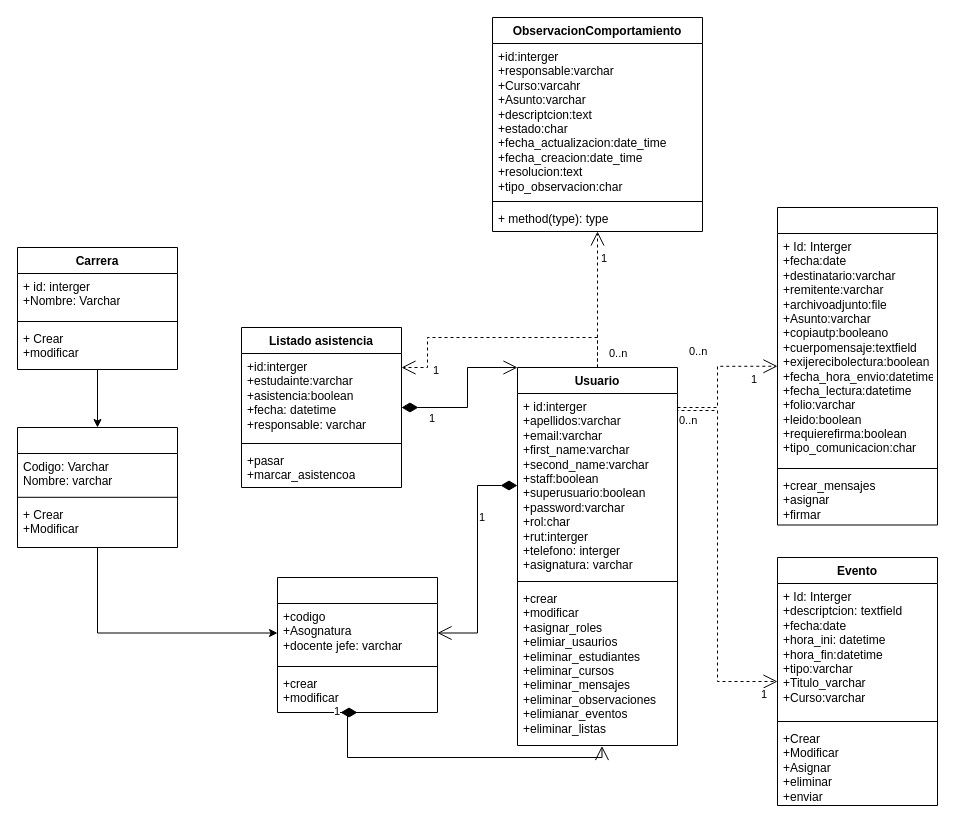
The diagram is 955 pixels wide and 826 high, and some of its shapes have lost their labels. Here are the shapes that lost their labels. From the top down, the box of each, then its label:
(776, 206, 938, 525): MensajeComunicacion
(16, 426, 178, 548): Asignatura
(276, 576, 438, 712): Seccion
